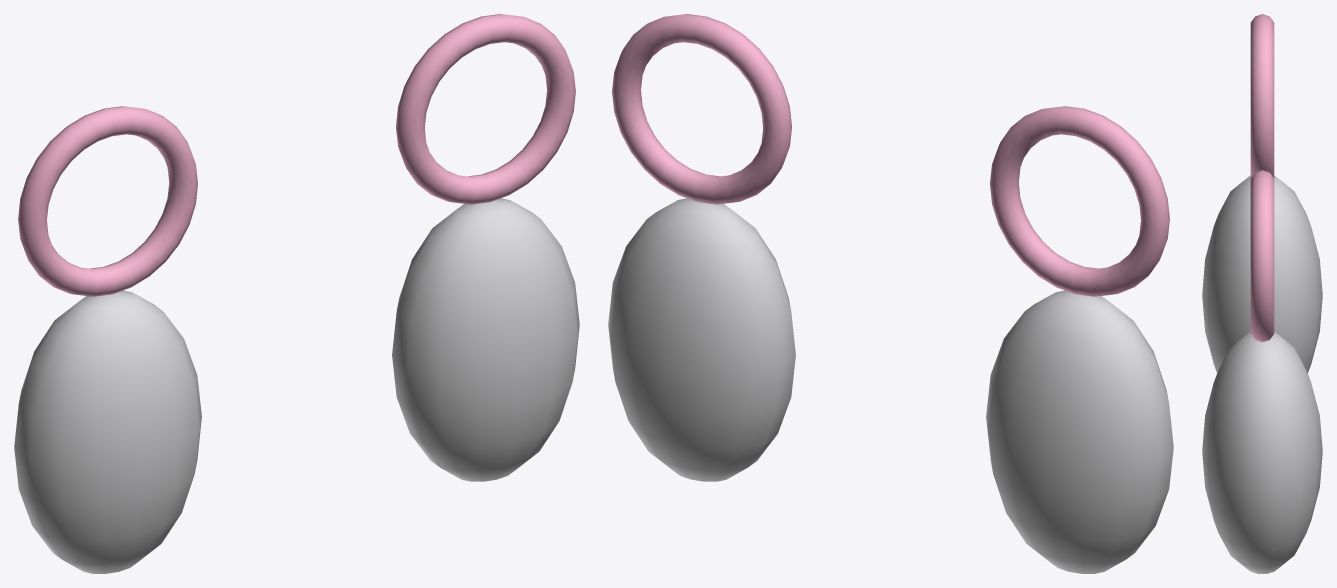
File: VM-ACC-FS8.glb
The picture shows the model from 3 angles, left to right: view 1: azimuth 30°, elevation 25°; view 2: azimuth 150°, elevation 25°; view 3: azimuth 270°, elevation 25°; orthographic projection. The views are drawn at different scales.
Visible parts, largest first — view 1: Aretes con Baño de Acero Rosa Dorado; view 2: Aretes con Baño de Acero Rosa Dorado; view 3: Aretes con Baño de Acero Rosa Dorado.
Part boxes in pixels (x1=…): Aretes con Baño de Acero Rosa Dorado: x1=14, y1=14, x2=579, y2=573; Aretes con Baño de Acero Rosa Dorado: x1=608, y1=14, x2=1173, y2=573; Aretes con Baño de Acero Rosa Dorado: x1=1202, y1=14, x2=1322, y2=573.
Size of the model in its own units: 0.0889 by 0.0707 by 0.0198.
